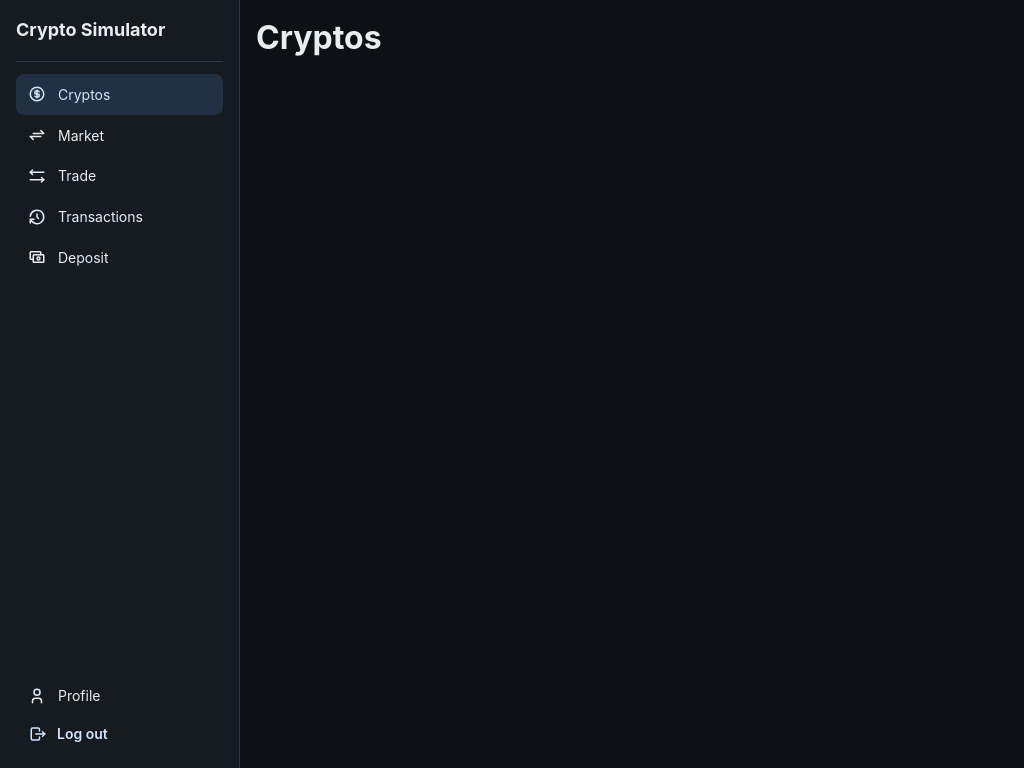
Test: AppLayout › navigates to the market and transactions pages from the sidebar
The image size is (1024, 768).
Click the link "Market" at x=66, y=135, box [28, 126, 104, 144]
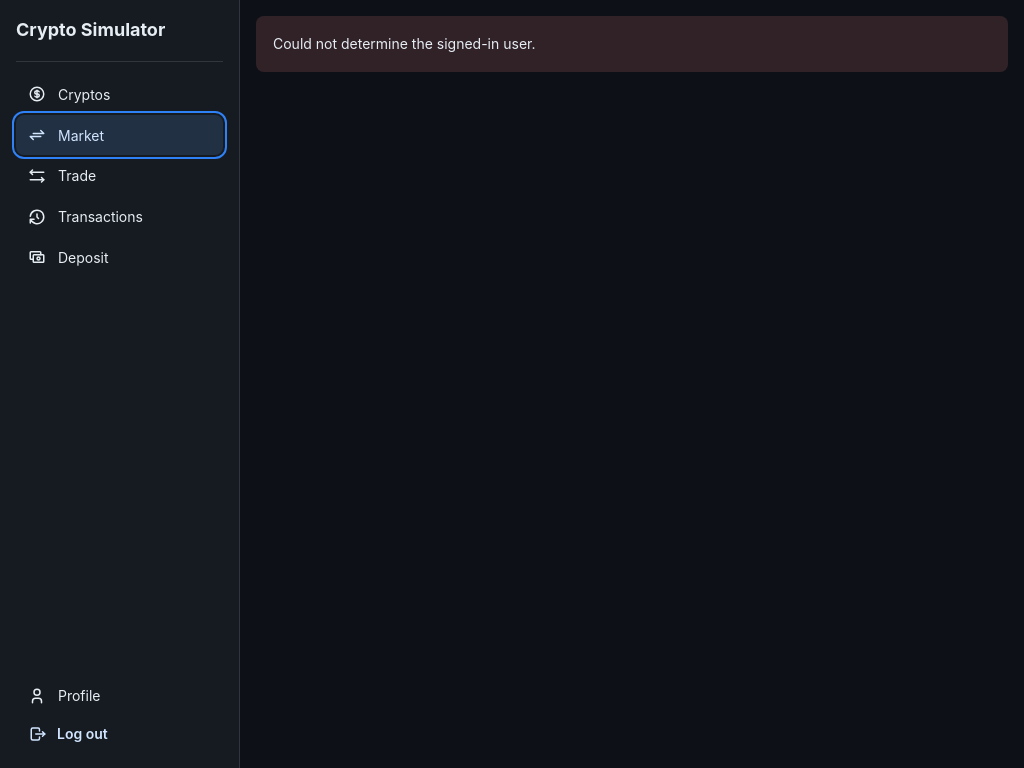
Expected: the link "Market" has attribute data-active="true", [16, 115, 223, 155]
Click the link "Transactions" at x=85, y=217, box [28, 208, 143, 226]
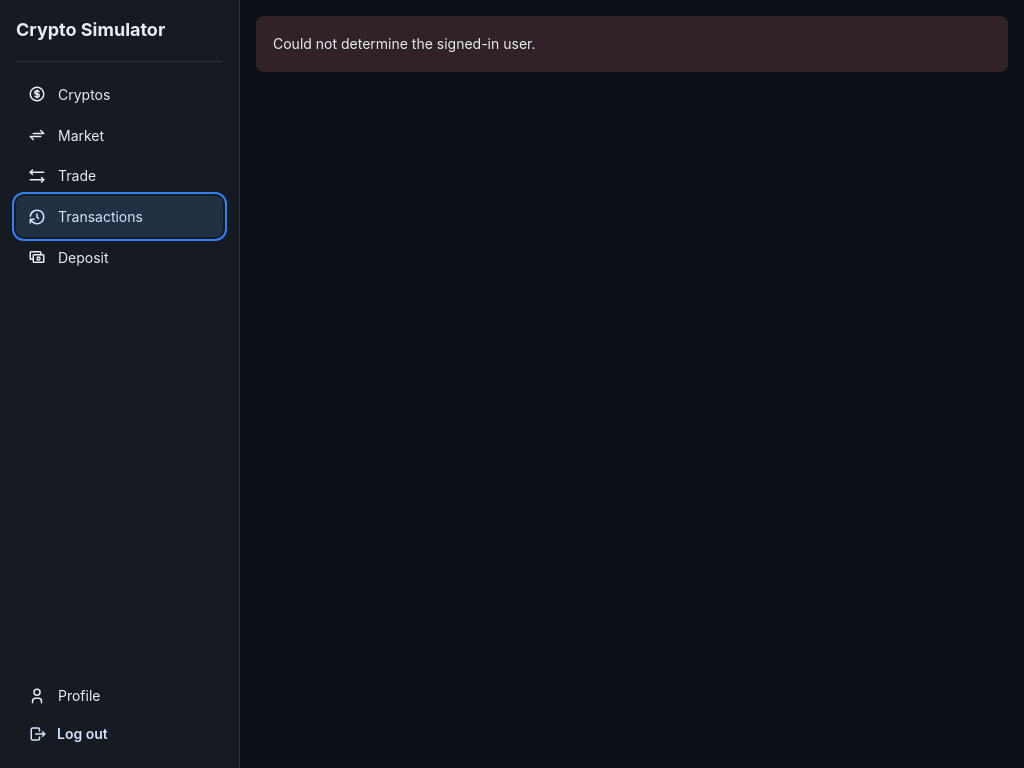
Expected: the link "Transactions" has attribute data-active="true", [16, 196, 223, 237]
